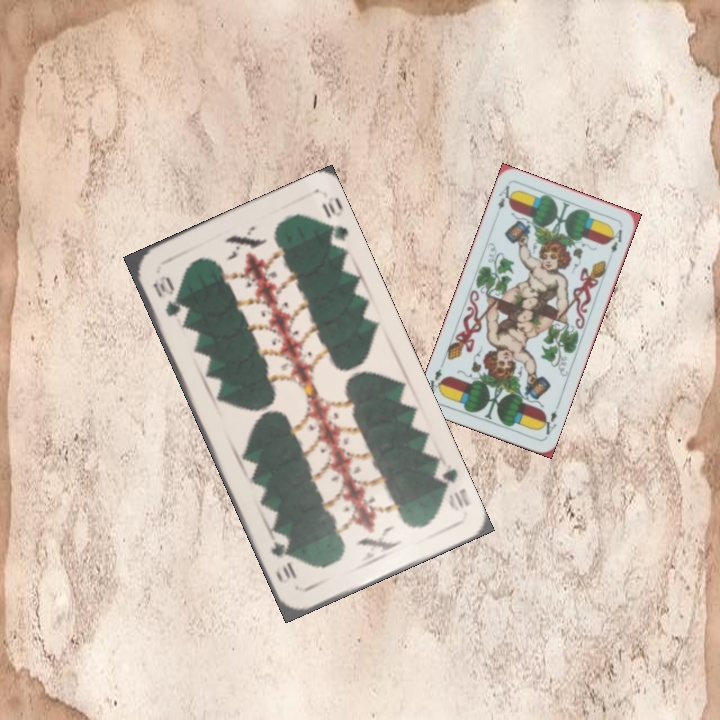EA: (536, 406, 560, 440), (494, 181, 516, 212)
G10: (430, 462, 472, 514), (149, 271, 183, 320)
